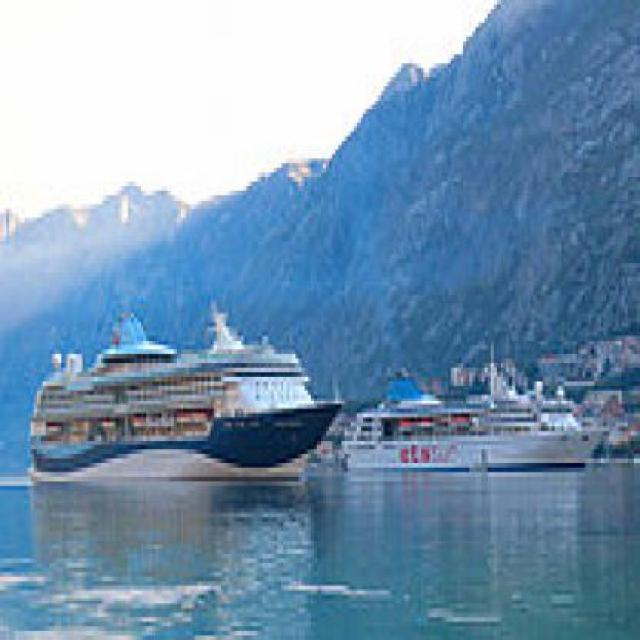cruise: (13, 283, 352, 491), (331, 360, 614, 497)
